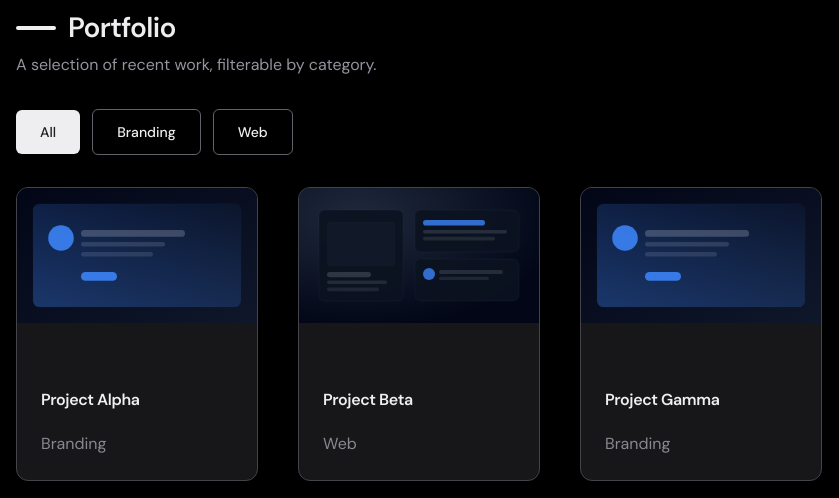
Test: PortfolioBlockClient › filters by category
This screenshot has width=839, height=498.
Expected: the text "Project Alpha" is shown, [41,389,140,410]
Expected: the text "Project Beta" is shown, [323,389,413,410]
Click the button "Branding" at [146, 132], box [92,109,201,155]
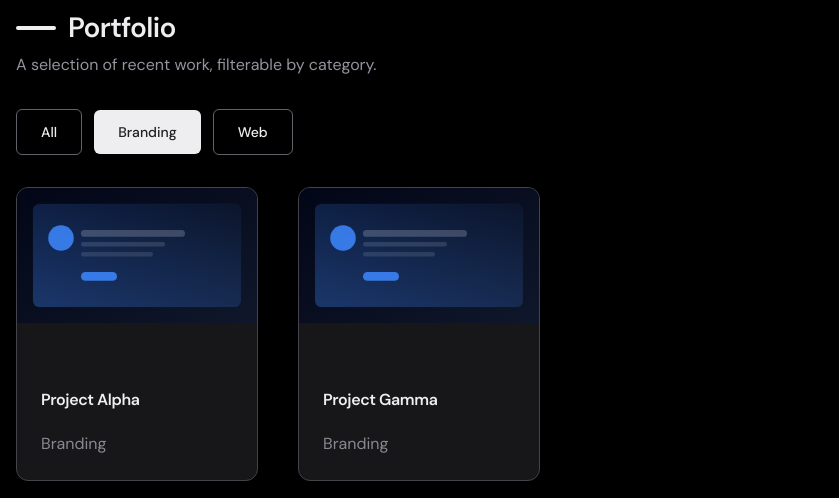
Expected: the text "Project Alpha" is shown, [41,389,140,410]
Now the link "Project Beta" is gone
Click the button "All" at [49, 132], box [16,109,82,155]
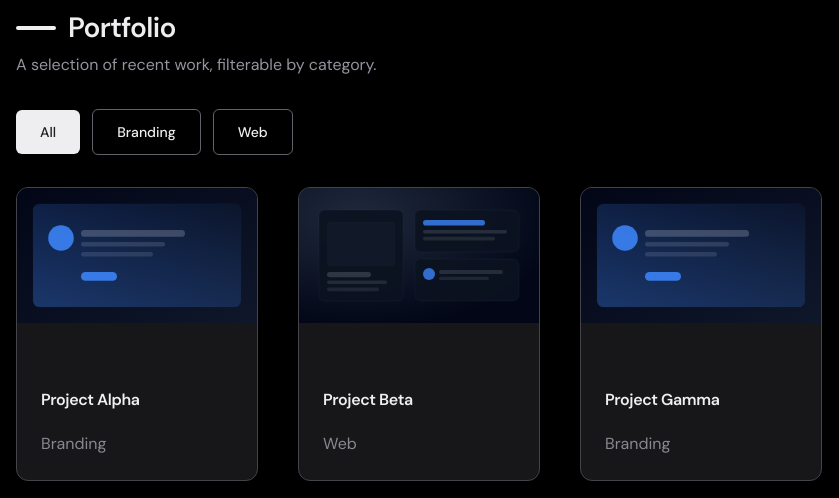
Expected: the text "Project Alpha" is shown, [41,389,140,410]
Now the text "Project Beta" is shown, box [323,389,413,410]
